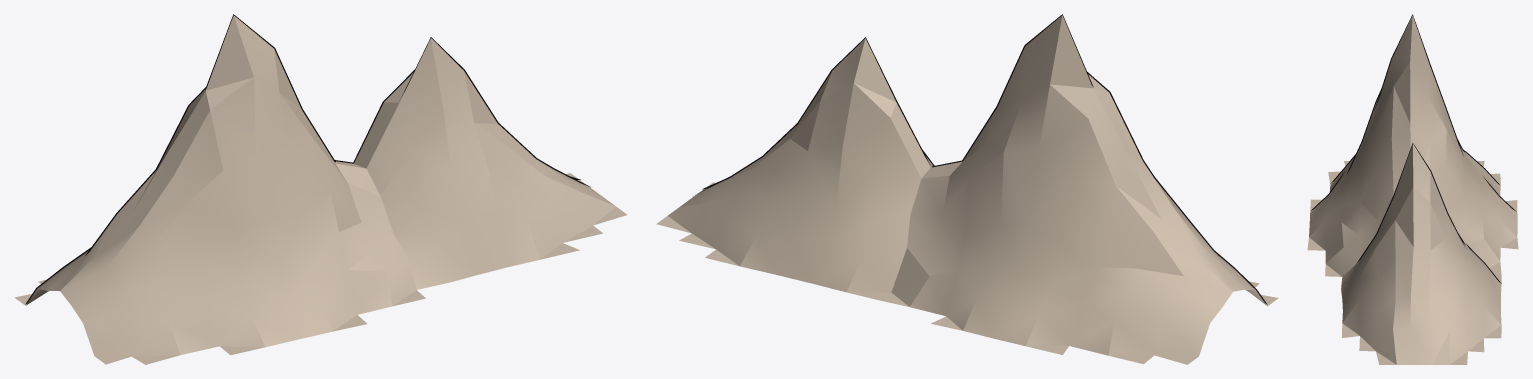
Rendered from SM_Cliff_05.fbx.
The picture shows the model from 3 angles, left to right: view 1: azimuth 30°, elevation 25°; view 2: azimuth 150°, elevation 25°; view 3: azimuth 270°, elevation 25°; orthographic projection. The views are drawn at different scales.
Parts seen in each view (by area): view 1: SM_Cliff_05; view 2: SM_Cliff_05; view 3: SM_Cliff_05.
Boxes of the visible parts, bbox=[...] form: SM_Cliff_05: bbox=[14, 14, 627, 364]; SM_Cliff_05: bbox=[656, 14, 1278, 364]; SM_Cliff_05: bbox=[1307, 14, 1518, 364].
Size of the model in its own units: 24.06 by 11.61 by 10.5.
